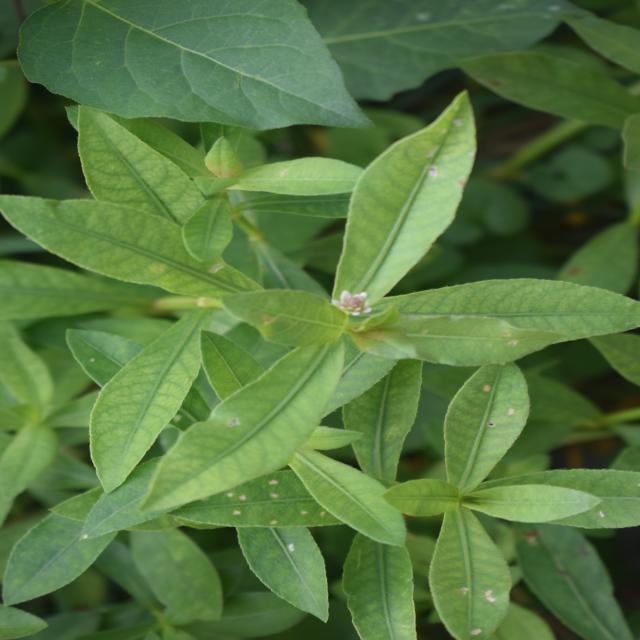Alligatorweed: (128, 59, 522, 588), (4, 227, 270, 614)
